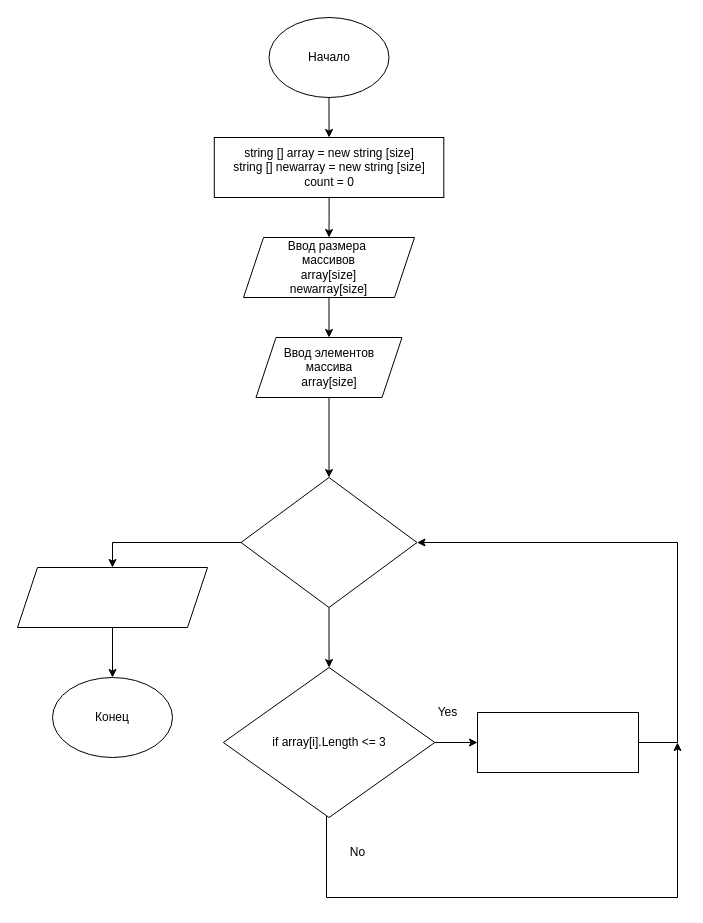
Some shapes in this 703 by 923 pixel diagram are drawn without their labels. Here are the shapes that lost their labels. From the top down, the centre of each, then its label:
At pixel 328 542: "For i 0 to array.length - 1".
At pixel 112 597: "Вывод newarray[count]".
At pixel 557 742: "newarray[count] = array[i] count ++".
